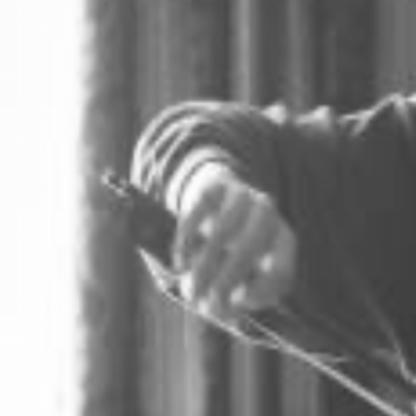good: (166, 161, 306, 328)
